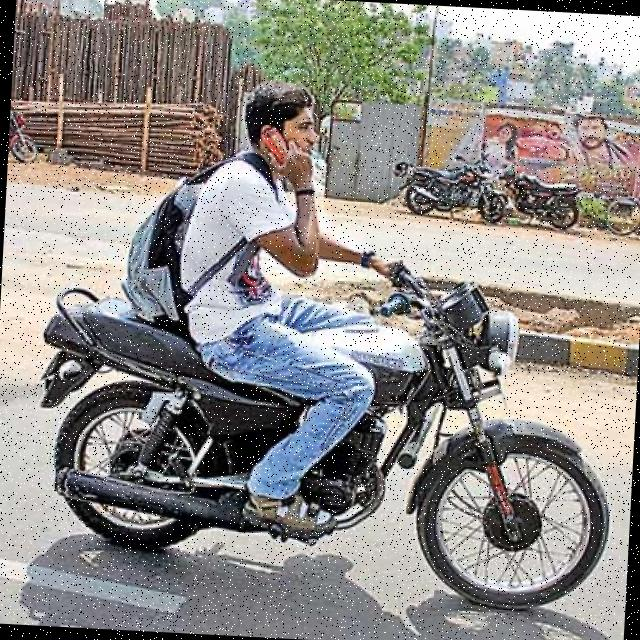Using mobile: (214, 62, 360, 272)
